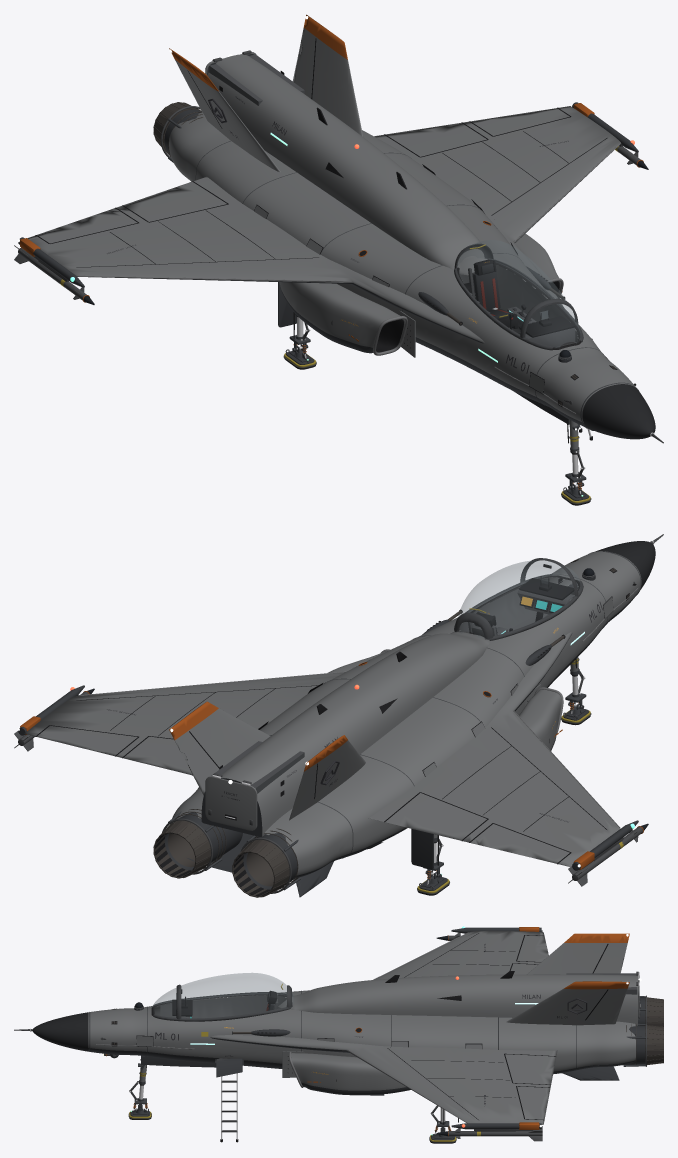
The model's file is Milan.2e4c693b4b.glb.
The picture shows the model from 3 angles, top to bottom: view 1: azimuth 30°, elevation 25°; view 2: azimuth 150°, elevation 25°; view 3: azimuth 270°, elevation 25°; orthographic projection. The views are drawn at different scales.
Visible parts, largest first — view 1: Einlaufschaufel links.001, HUD-Scheibe.001, Rumpf.004, Absaugloch.040, Hauptfuge.005, Bauchflosse links.001, Holmfuge.004, Abstandshalter.006, Cockpitwanne.001, Einlauflippe.002, Seitenleitwerk links.001, Kopfpolster.001 (+5 smaller); view 2: Einlaufschaufel links.001, HUD-Scheibe.001, Brennkammer.002, Abstandshalter.006, Absaugloch.040, Klappe.013, Hauptfuge.005, Holmfuge.004, Bauchflosse links.001, Cockpitwanne.001, Rumpf.004, Seitenleitwerk links.001 (+6 smaller); view 3: Einlaufschaufel links.001, HUD-Scheibe.001, Bauchflosse links.001, Abstandshalter.006, Cockpitwanne.001, Rumpf.004, Hauptfuge.005, Brennkammer.002, Holmfuge.004, Seitenleitwerk links.001, Absaugloch.040, Klappe.014 (+6 smaller).
Part boxes in pixels (left/top/right/bottom): Einlaufschaufel links.001: left=27, top=28, right=636, bottom=422; HUD-Scheibe.001: left=457, top=240, right=580, bottom=347; Rumpf.004: left=582, top=384, right=655, bottom=439; Absaugloch.040: left=219, top=71, right=636, bottom=407; Hauptfuge.005: left=195, top=141, right=638, bottom=430; Bauchflosse links.001: left=77, top=165, right=597, bottom=428; Holmfuge.004: left=35, top=38, right=608, bottom=394; Abstandshalter.006: left=18, top=54, right=638, bottom=430; Cockpitwanne.001: left=459, top=265, right=578, bottom=347; Einlauflippe.002: left=78, top=143, right=620, bottom=413; Seitenleitwerk links.001: left=169, top=14, right=347, bottom=91; Kopfpolster.001: left=473, top=263, right=511, bottom=319; Einlaufschaufel links.001: left=24, top=551, right=641, bottom=875; HUD-Scheibe.001: left=458, top=560, right=580, bottom=637; Brennkammer.002: left=153, top=559, right=629, bottom=897; Abstandshalter.006: left=18, top=575, right=638, bottom=889; Absaugloch.040: left=155, top=559, right=636, bottom=896; Klappe.013: left=205, top=776, right=257, bottom=830; Hauptfuge.005: left=198, top=551, right=641, bottom=858; Holmfuge.004: left=35, top=596, right=613, bottom=864; Bauchflosse links.001: left=187, top=582, right=639, bottom=897; Cockpitwanne.001: left=459, top=588, right=574, bottom=633; Rumpf.004: left=596, top=541, right=655, bottom=589; Seitenleitwerk links.001: left=169, top=701, right=347, bottom=771; Einlaufschaufel links.001: left=88, top=930, right=637, bottom=1124; HUD-Scheibe.001: left=152, top=973, right=293, bottom=1017; Bauchflosse links.001: left=88, top=1037, right=635, bottom=1110; Abstandshalter.006: left=110, top=927, right=645, bottom=1129; Cockpitwanne.001: left=160, top=995, right=286, bottom=1018; Rumpf.004: left=32, top=1012, right=88, bottom=1051; Hauptfuge.005: left=89, top=984, right=576, bottom=1070; Brennkammer.002: left=104, top=997, right=663, bottom=1064; Holmfuge.004: left=136, top=933, right=608, bottom=1120; Seitenleitwerk links.001: left=564, top=933, right=629, bottom=989; Absaugloch.040: left=102, top=971, right=514, bottom=1081; Klappe.014: left=137, top=1036, right=481, bottom=1077.
Size of the model in its own units: 11.55 by 4.28 by 15.82.
